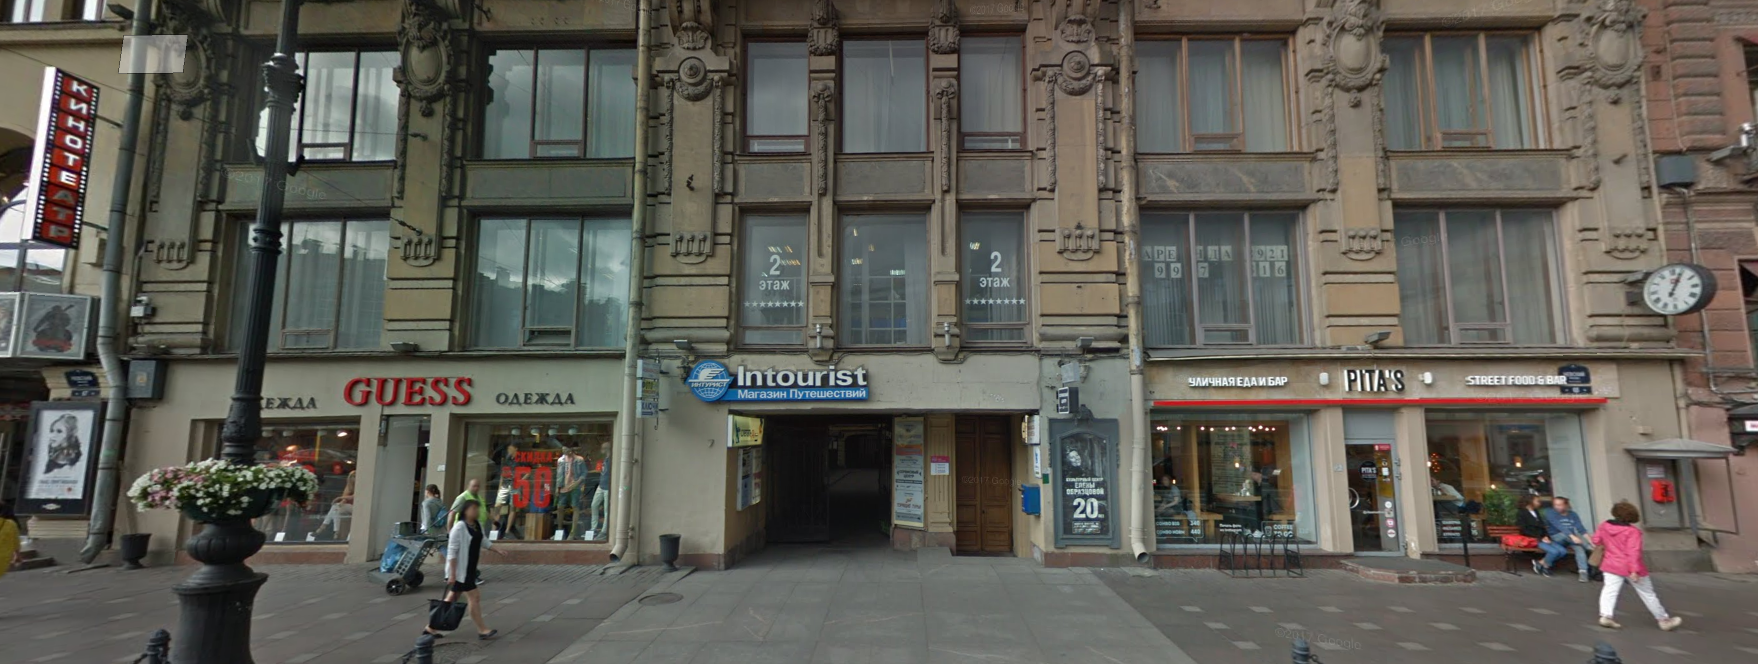arch: (728, 418, 907, 556)
cantilever: (24, 52, 122, 276), (629, 351, 672, 419), (1043, 366, 1080, 416)
door: (1343, 430, 1409, 563), (946, 416, 1008, 550)
signboard: (678, 354, 878, 409), (1047, 421, 1125, 546), (332, 367, 475, 413), (1331, 361, 1417, 395), (1462, 367, 1577, 391), (1182, 366, 1290, 391), (488, 385, 579, 411)
window: (1136, 206, 1318, 347), (1422, 411, 1593, 556), (1395, 205, 1567, 348), (1379, 28, 1560, 154), (221, 210, 379, 345), (468, 209, 624, 343), (464, 36, 633, 158), (237, 43, 398, 168), (198, 418, 357, 544), (1134, 31, 1297, 151), (1149, 416, 1305, 539), (462, 421, 616, 545), (831, 205, 926, 343), (840, 28, 928, 155), (735, 202, 808, 345), (959, 202, 1026, 351), (746, 29, 804, 158), (955, 33, 1016, 148)
